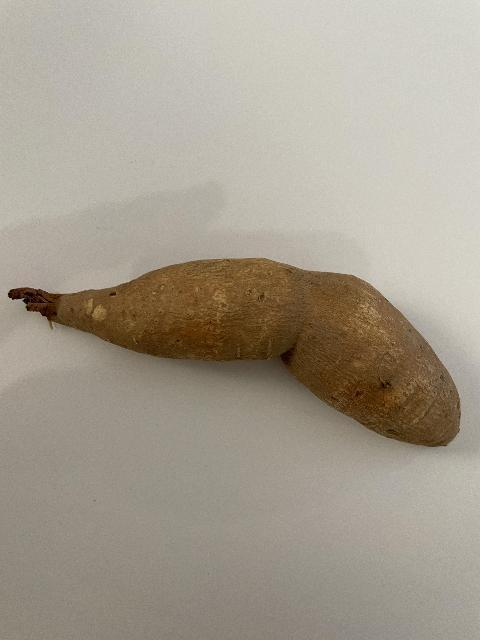sweetpotato: (10, 256, 460, 448)
